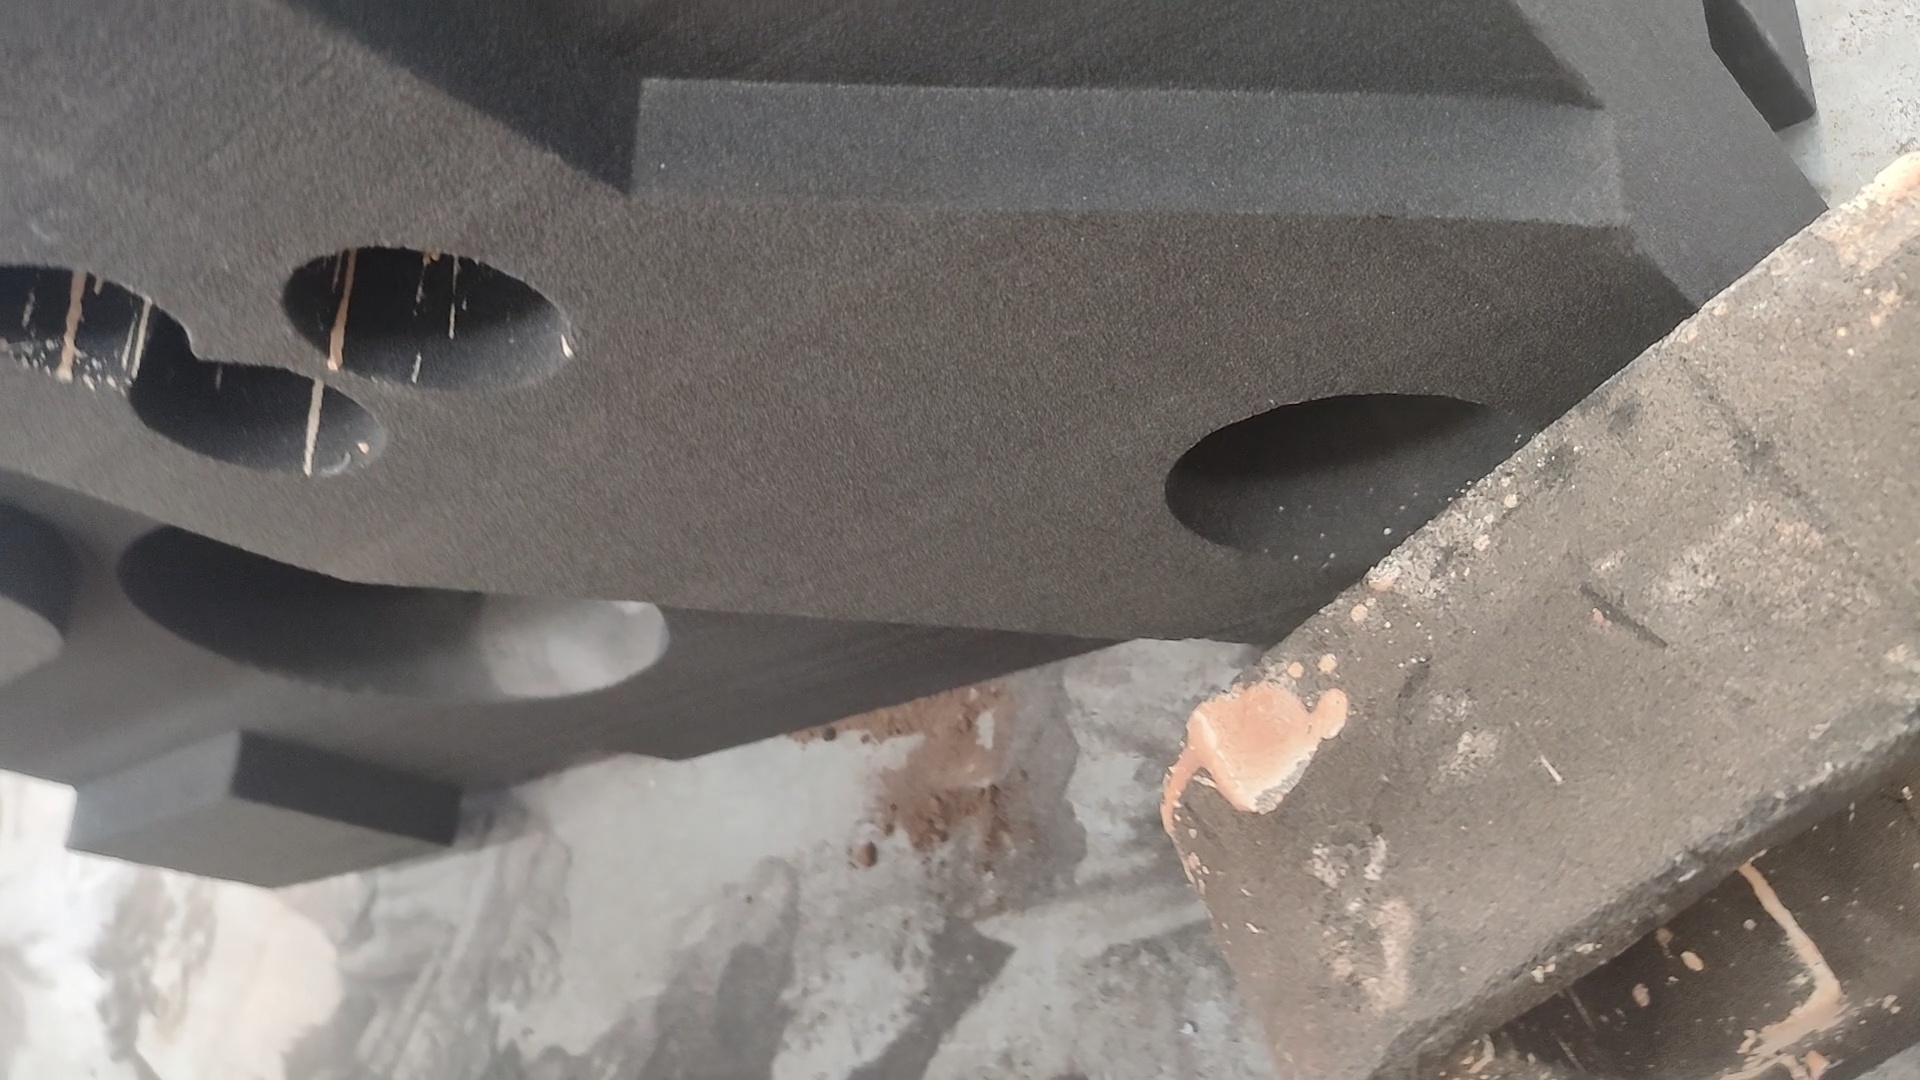pouring hole: (1164, 392, 1534, 554)
